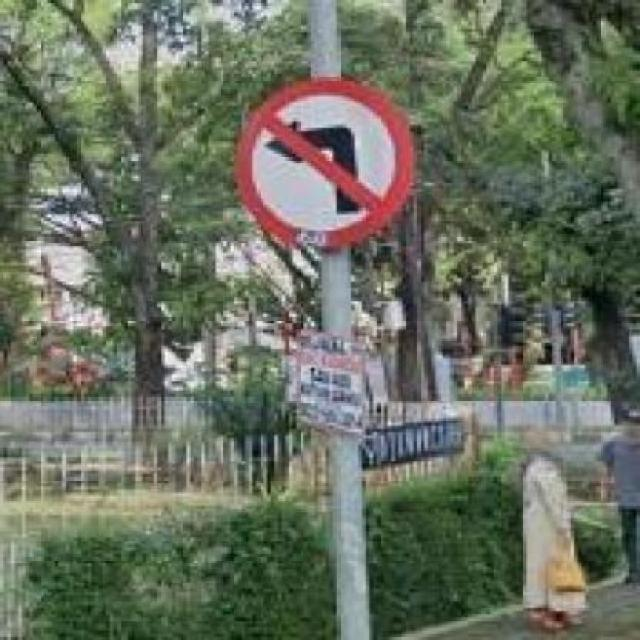left turn prohibited: (233, 74, 416, 252)
